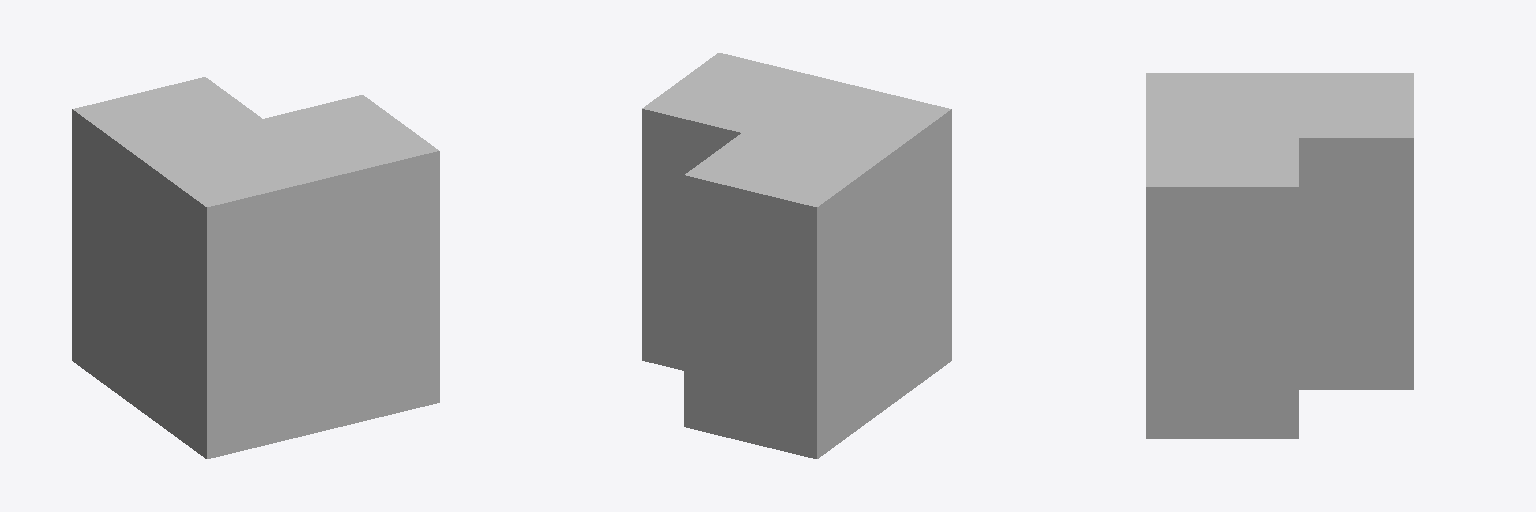
Rendered from FM_hedge_corner.obj.
3 renders of one model, left to right at view 1: azimuth 30°, elevation 25°; view 2: azimuth 150°, elevation 25°; view 3: azimuth 270°, elevation 25°, orthographic.
Visible parts, largest first — view 1: Cube.003_Cube.004; view 2: Cube.003_Cube.004; view 3: Cube.003_Cube.004.
Part boxes in pixels (x1,y1,x2,y2): Cube.003_Cube.004: (72, 77, 439, 458); Cube.003_Cube.004: (642, 53, 951, 458); Cube.003_Cube.004: (1146, 73, 1413, 438).
Bounding box in the file's own units: 0.7 × 0.7242 × 0.7004.